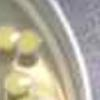yellow: (14, 29, 43, 60), (0, 22, 20, 56), (4, 71, 31, 95), (34, 74, 57, 98), (9, 92, 36, 100)
